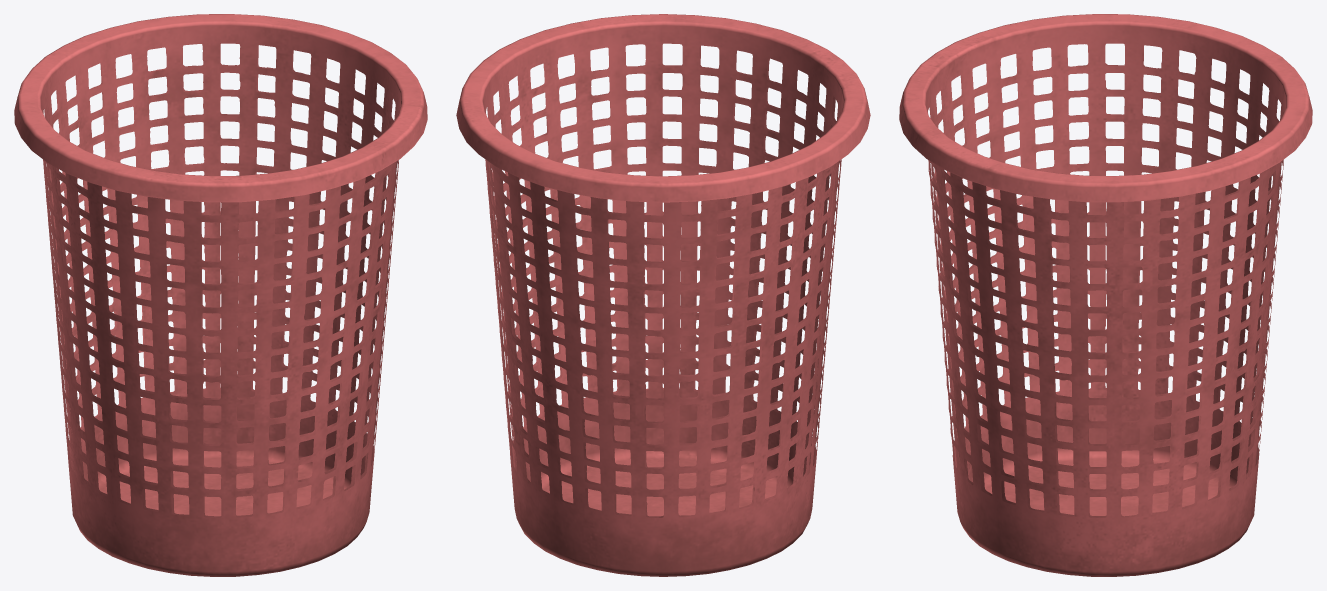
File: M_Basket_01.FBX
3 views of the same model, side by side, from view 1: azimuth 30°, elevation 25°; view 2: azimuth 150°, elevation 25°; view 3: azimuth 270°, elevation 25° (orthographic).
Visible parts, largest first — view 1: M_Basket_01; view 2: M_Basket_01; view 3: M_Basket_01.
Part boxes in pixels (x1,y1,x2,y2): M_Basket_01: (14,14,427,576); M_Basket_01: (456,14,870,576); M_Basket_01: (899,14,1312,576).
Size of the model in its own units: 47.27 by 47.27 by 52.92.
